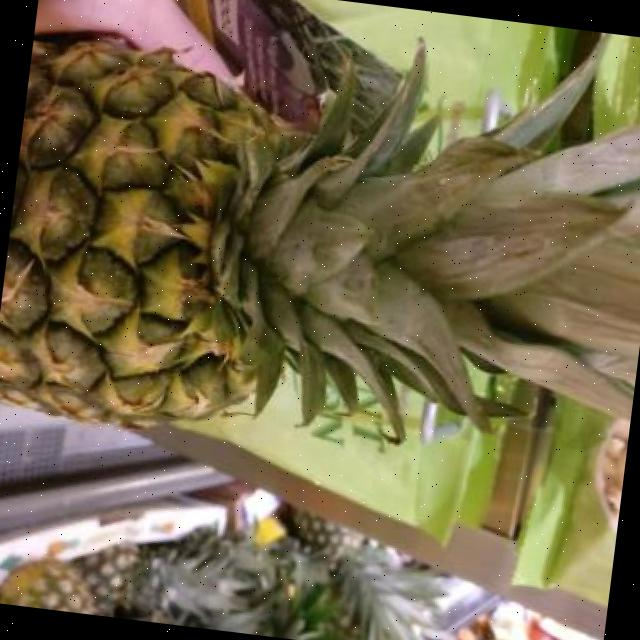pineapple: (0, 35, 640, 443), (276, 504, 440, 640), (70, 531, 247, 617)
